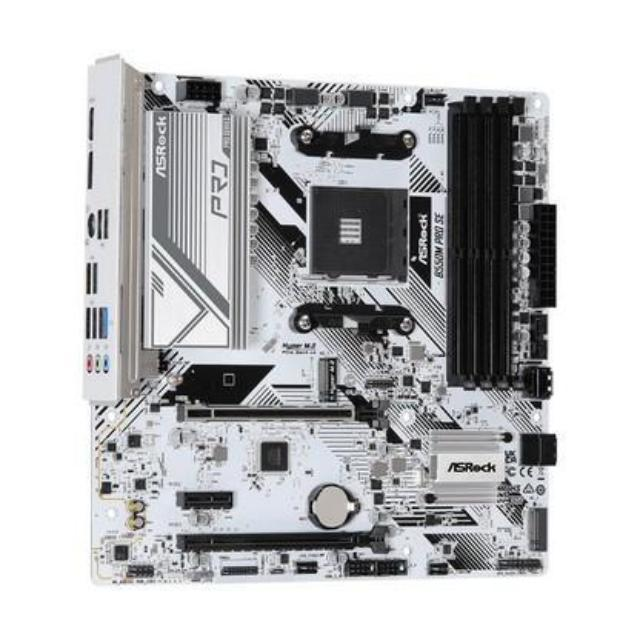Mainboard: (72, 52, 566, 592)
